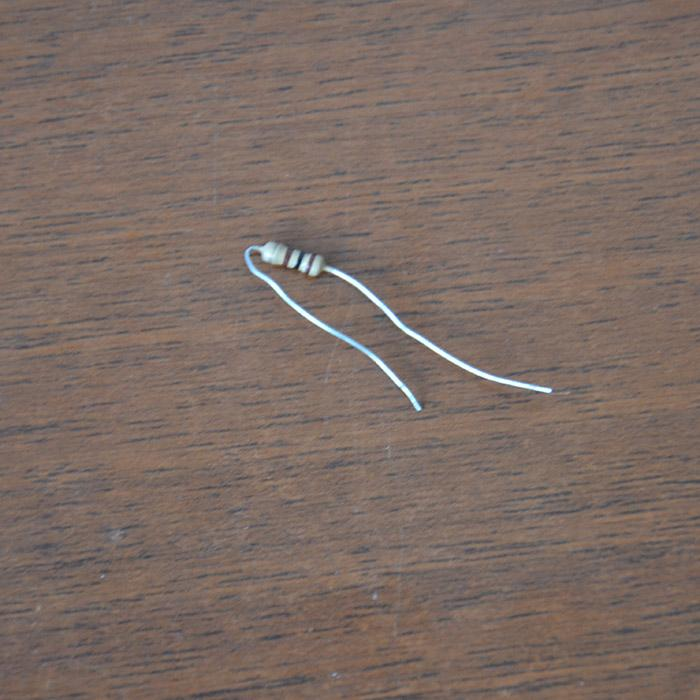resistor: (255, 240, 326, 279)
